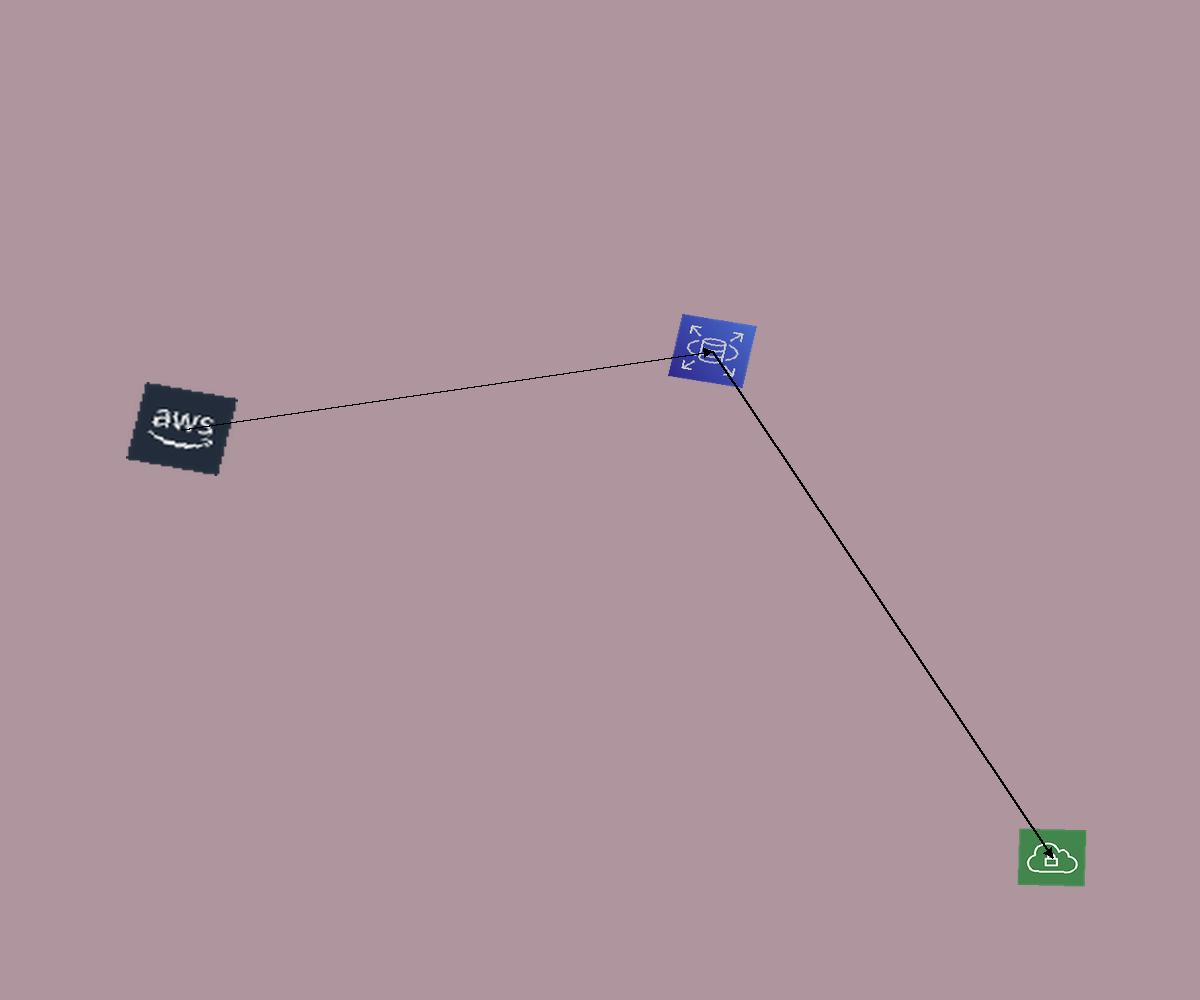AWS-Cloud-logo: (126, 382, 238, 476)
AWS-Private_vpc: (1017, 828, 1087, 887)
AWS-RDS: (668, 314, 757, 388)
